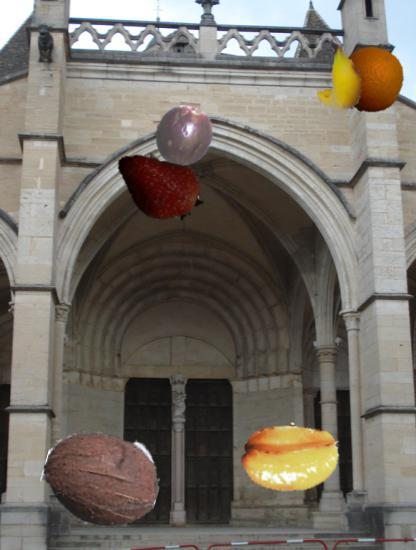Banana: (299, 43, 370, 114)
Carambula: (240, 406, 342, 508)
Cocos: (43, 420, 161, 538)
Orange: (338, 46, 405, 113)
Passion: (153, 104, 215, 166)
Strawberry: (120, 150, 205, 235)
